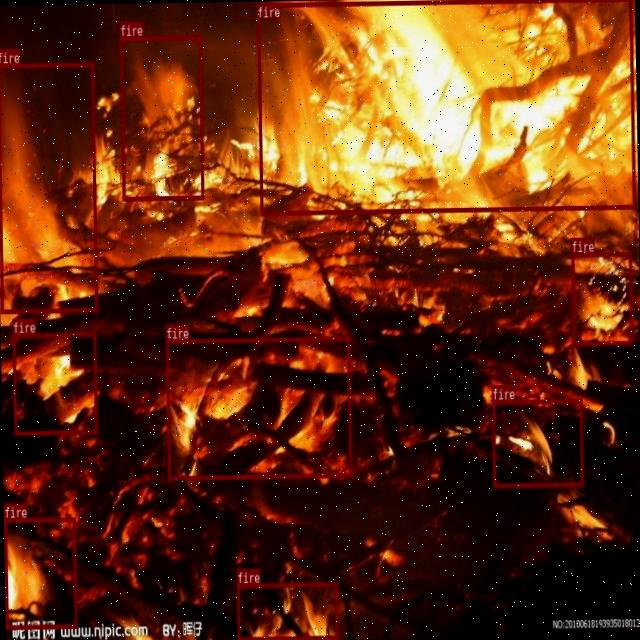fire: (256, 0, 635, 214), (165, 336, 351, 479), (0, 61, 96, 312), (119, 34, 204, 200), (12, 332, 96, 433), (490, 398, 582, 487), (4, 516, 76, 628), (236, 581, 338, 640), (570, 251, 632, 345)
